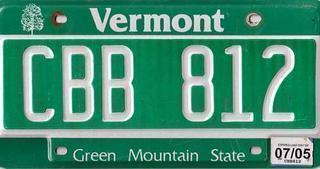placa de veiculo: (4, 0, 317, 167)
